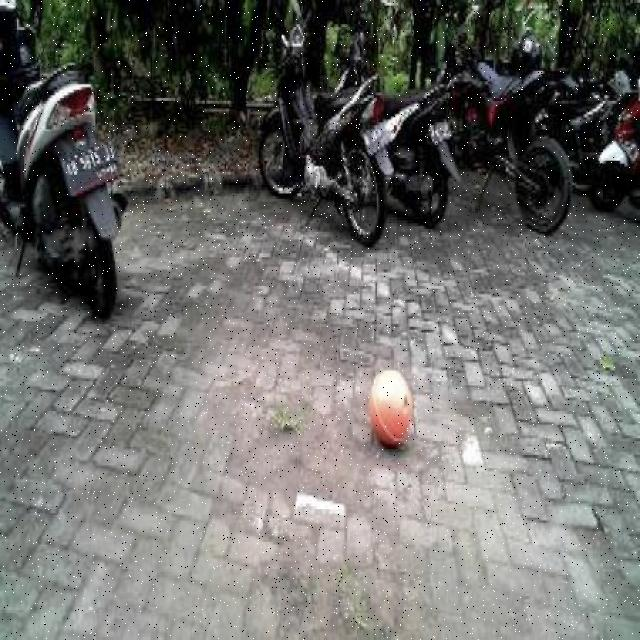buoy: (361, 358, 421, 456)
